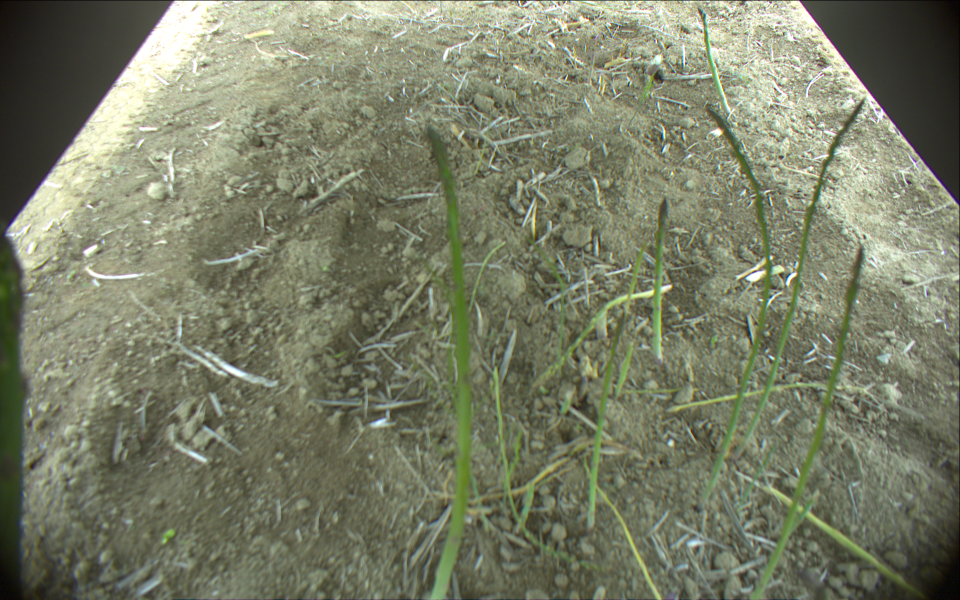aspa: (725, 101, 867, 468), (750, 245, 864, 600), (704, 111, 773, 503), (425, 127, 474, 600), (588, 218, 652, 527), (757, 484, 923, 600), (534, 284, 673, 386), (492, 368, 558, 553), (583, 466, 662, 600), (671, 382, 875, 417), (696, 8, 734, 118), (651, 200, 668, 369)
